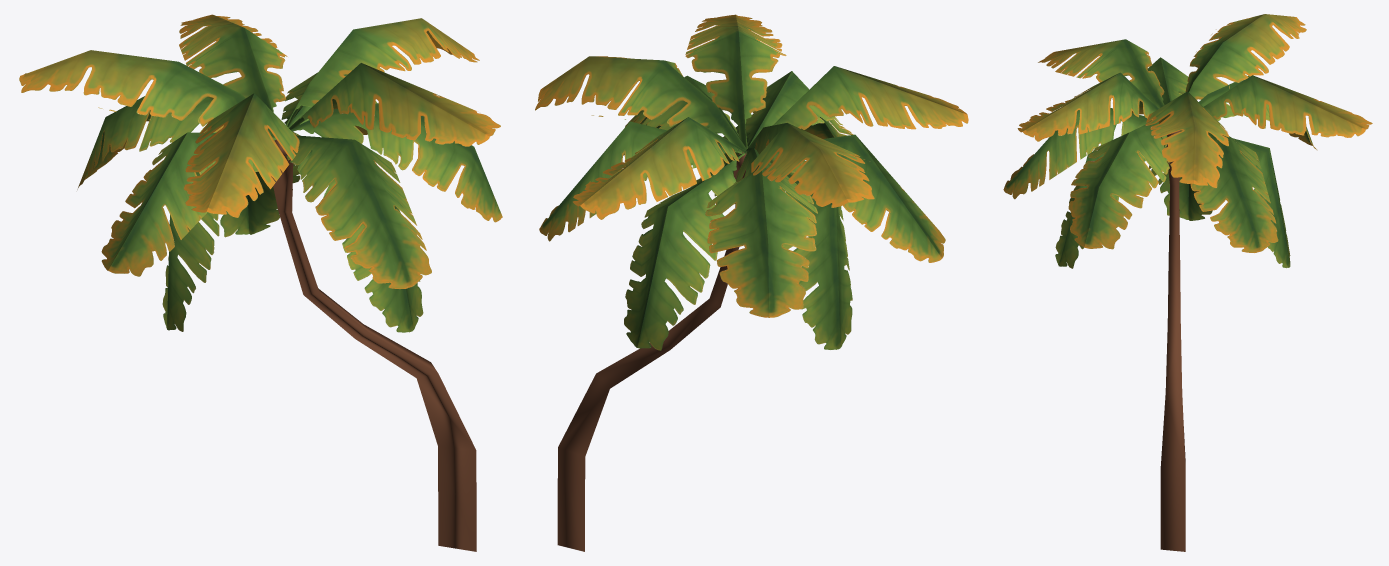
Rendered from palm tree 1.fbx.
3 views of the same model, side by side, from view 1: azimuth 30°, elevation 25°; view 2: azimuth 150°, elevation 25°; view 3: azimuth 270°, elevation 25° (orthographic). The views are drawn at different scales.
Visible parts, largest first — view 1: Bark_1; view 2: Bark_1; view 3: Bark_1.
Part boxes in pixels (x1=…): Bark_1: x1=19, y1=14, x2=502, y2=551; Bark_1: x1=535, y1=14, x2=968, y2=551; Bark_1: x1=1003, y1=14, x2=1372, y2=551.
Size of the model in its own units: 3.03 by 3.07 by 3.84.
